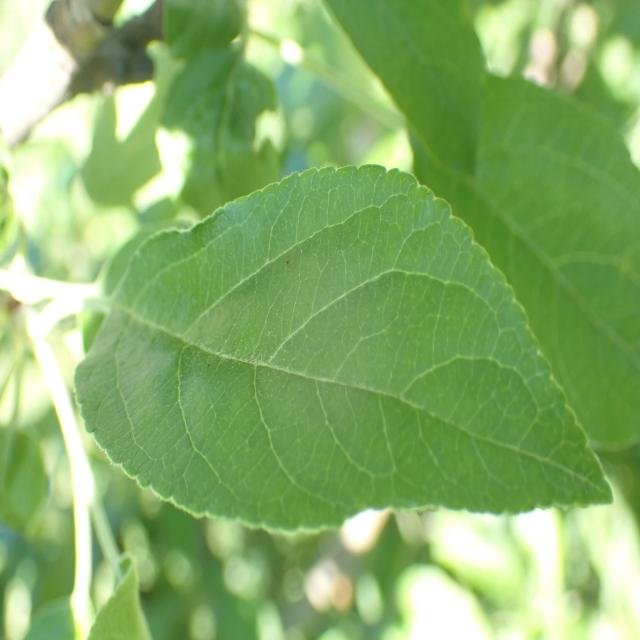healthy: (73, 162, 614, 535), (322, 0, 640, 451)
